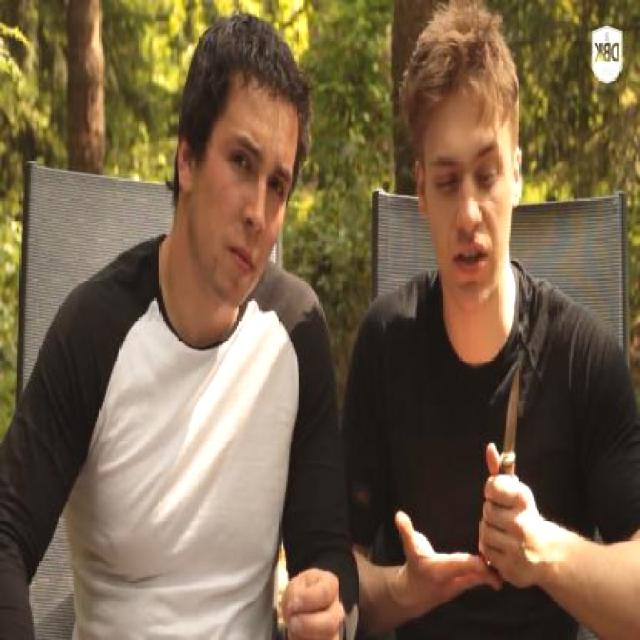knife: (477, 342, 540, 543)
